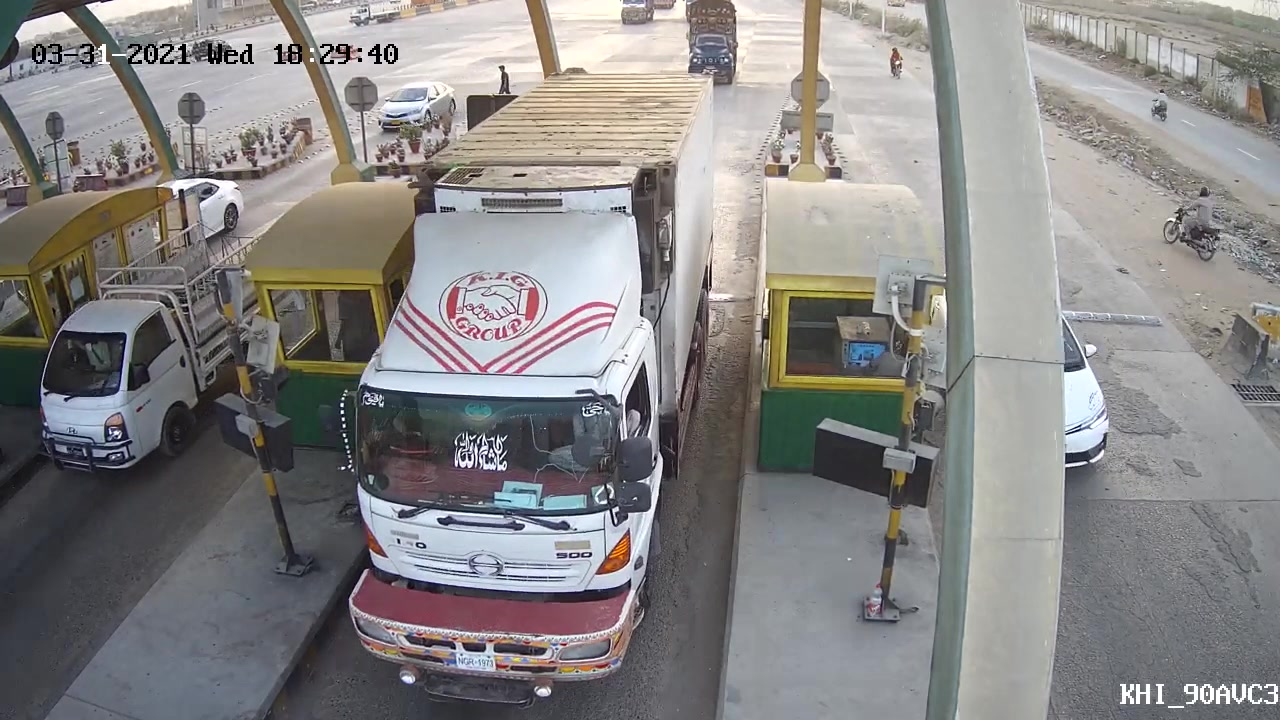F6: (315, 68, 723, 716)
